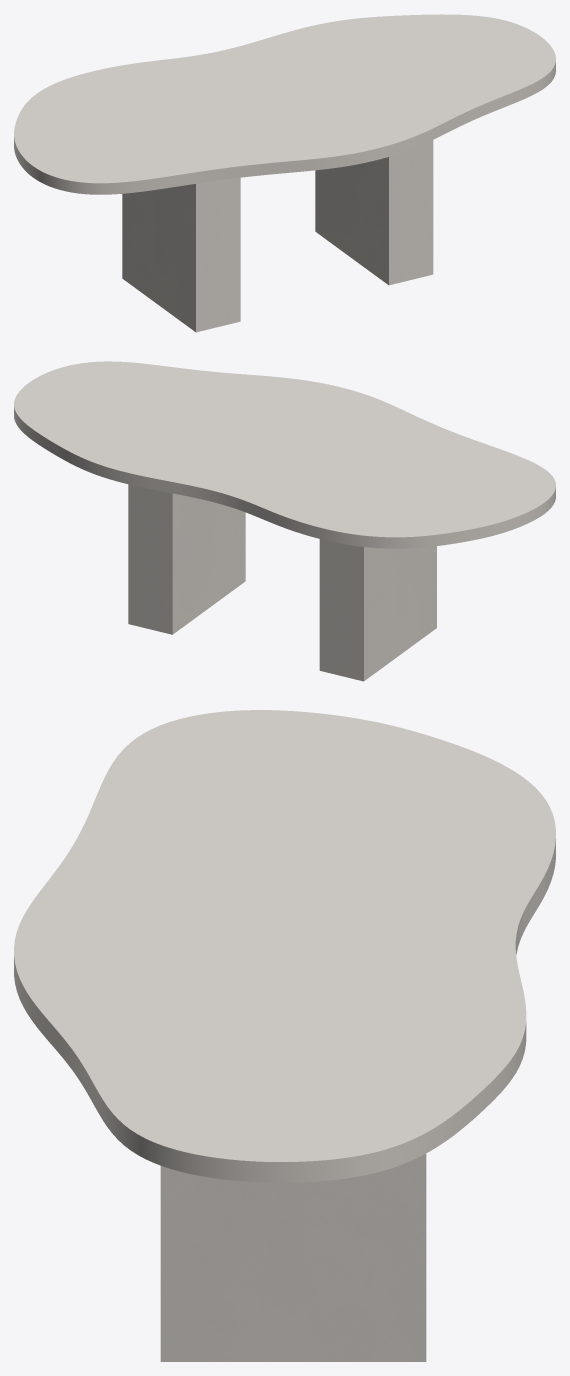
The model's file is pearlwhite_toplast_standard_ridge.glb.
3 renders of one model, top to bottom at view 1: azimuth 30°, elevation 25°; view 2: azimuth 150°, elevation 25°; view 3: azimuth 270°, elevation 25°, orthographic. The views are drawn at different scales.
Parts seen in each view (by area): view 1: standard_toplast, ridge; view 2: standard_toplast, ridge; view 3: standard_toplast, ridge.
Boxes of the visible parts, x1,y1,x2,y2 form: standard_toplast: (14,14,555,194); ridge: (122,140,433,332); standard_toplast: (14,361,555,548); ridge: (128,484,436,681); standard_toplast: (14,710,555,1182); ridge: (160,1154,426,1361).
Size of the model in its own units: 7.5 by 2.5 by 3.8.
1 material, 1 textured.
